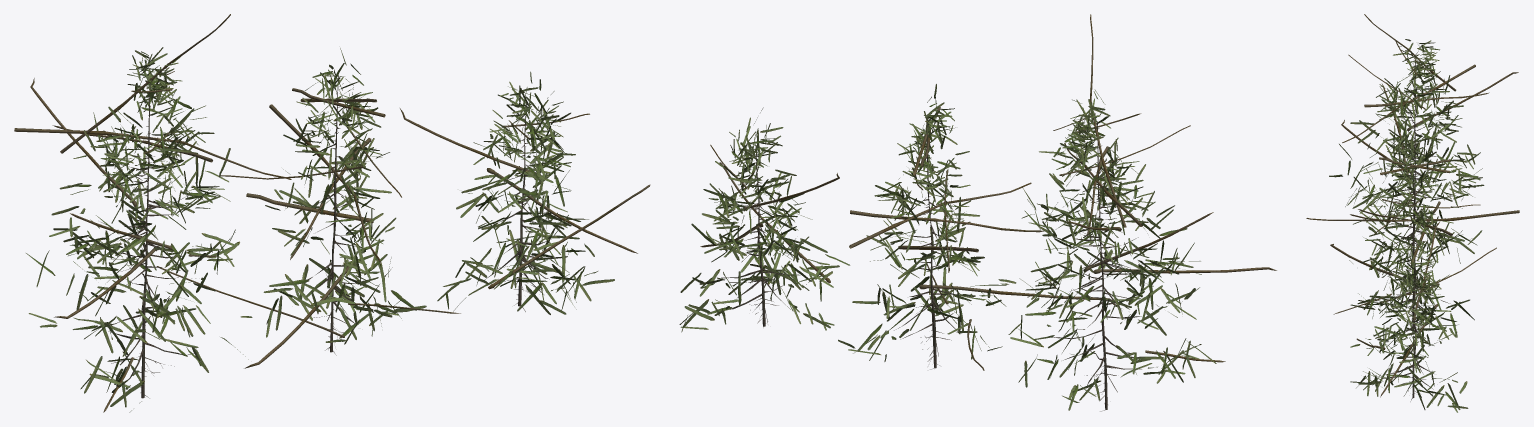
Rendered from fir.glb.
3 renders of one model, left to right at view 1: azimuth 30°, elevation 25°; view 2: azimuth 150°, elevation 25°; view 3: azimuth 270°, elevation 25°, orthographic. The views are drawn at different scales.
Visible parts, largest first — view 1: fir_sapling_medium_a_LOD0; view 2: fir_sapling_medium_a_LOD0; view 3: fir_sapling_medium_a_LOD0.
Boxes of the visible parts, box(x1,y1,x2,y2) form: fir_sapling_medium_a_LOD0: box(14, 14, 650, 412); fir_sapling_medium_a_LOD0: box(679, 14, 1276, 411); fir_sapling_medium_a_LOD0: box(1306, 14, 1519, 412).
Bounding box in the file's own units: 7.15 × 4.5 × 3.13.
3 materials, 3 textured.
